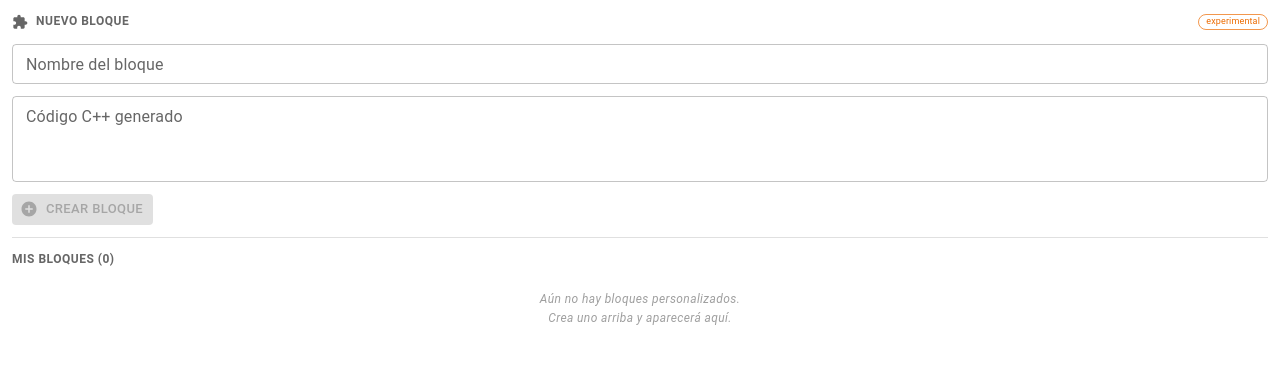
CustomBlocksPanel › el aviso de error se puede cerrar
The image size is (1280, 390).
Press Enter in the field labelled "Nombre del bloque", box [12, 44, 1268, 84]
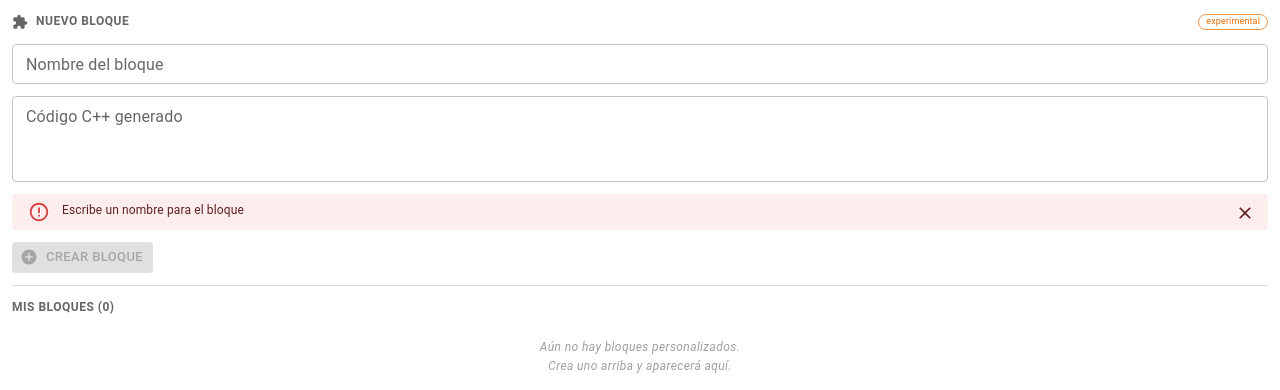
Click the button named "close" at (1245, 213), box [1230, 198, 1260, 228]
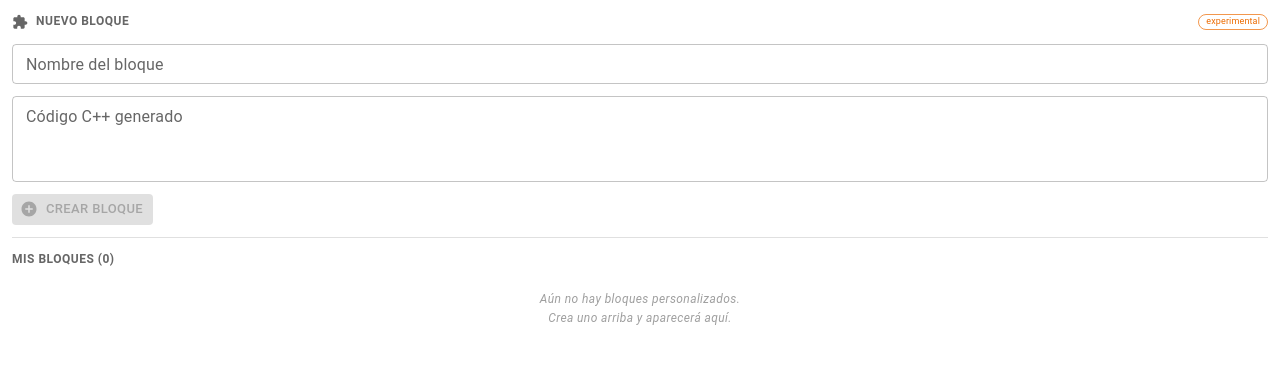
Expected: the text "Escribe un nombre para el bloque" is gone
